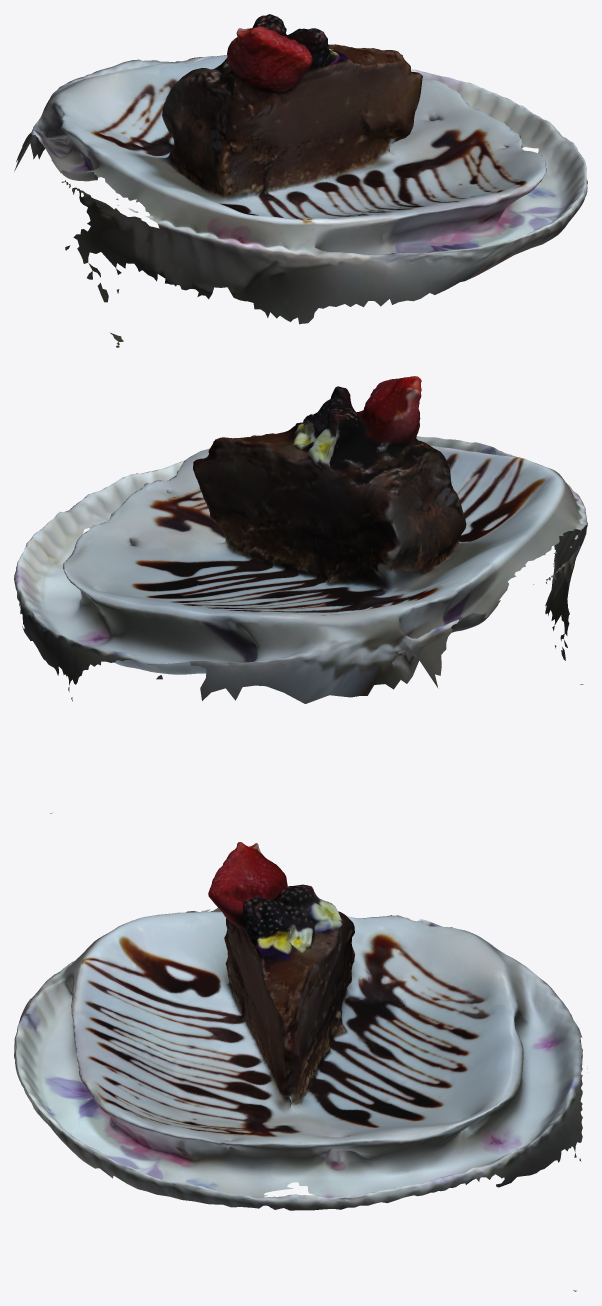
Rendered from marquischocolate.glb.
3 views of the same model, one above another, from view 1: azimuth 30°, elevation 25°; view 2: azimuth 150°, elevation 25°; view 3: azimuth 270°, elevation 25° (orthographic). The views are drawn at different scales.
Parts seen in each view (by area): view 1: 3DModel; view 2: 3DModel; view 3: 3DModel.
Part boxes in pixels (x1,y1,x2,y2): 3DModel: [14, 14, 587, 347]; 3DModel: [14, 376, 587, 813]; 3DModel: [14, 842, 587, 1291].
Size of the model in its own units: 0.7837 by 0.5294 by 0.7751.
Materials: 1 (1 with a texture image).
